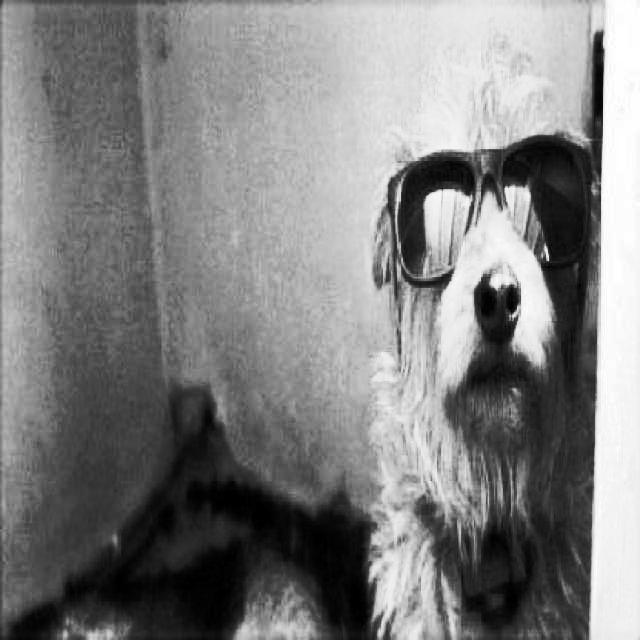Dog: (356, 7, 603, 640)
